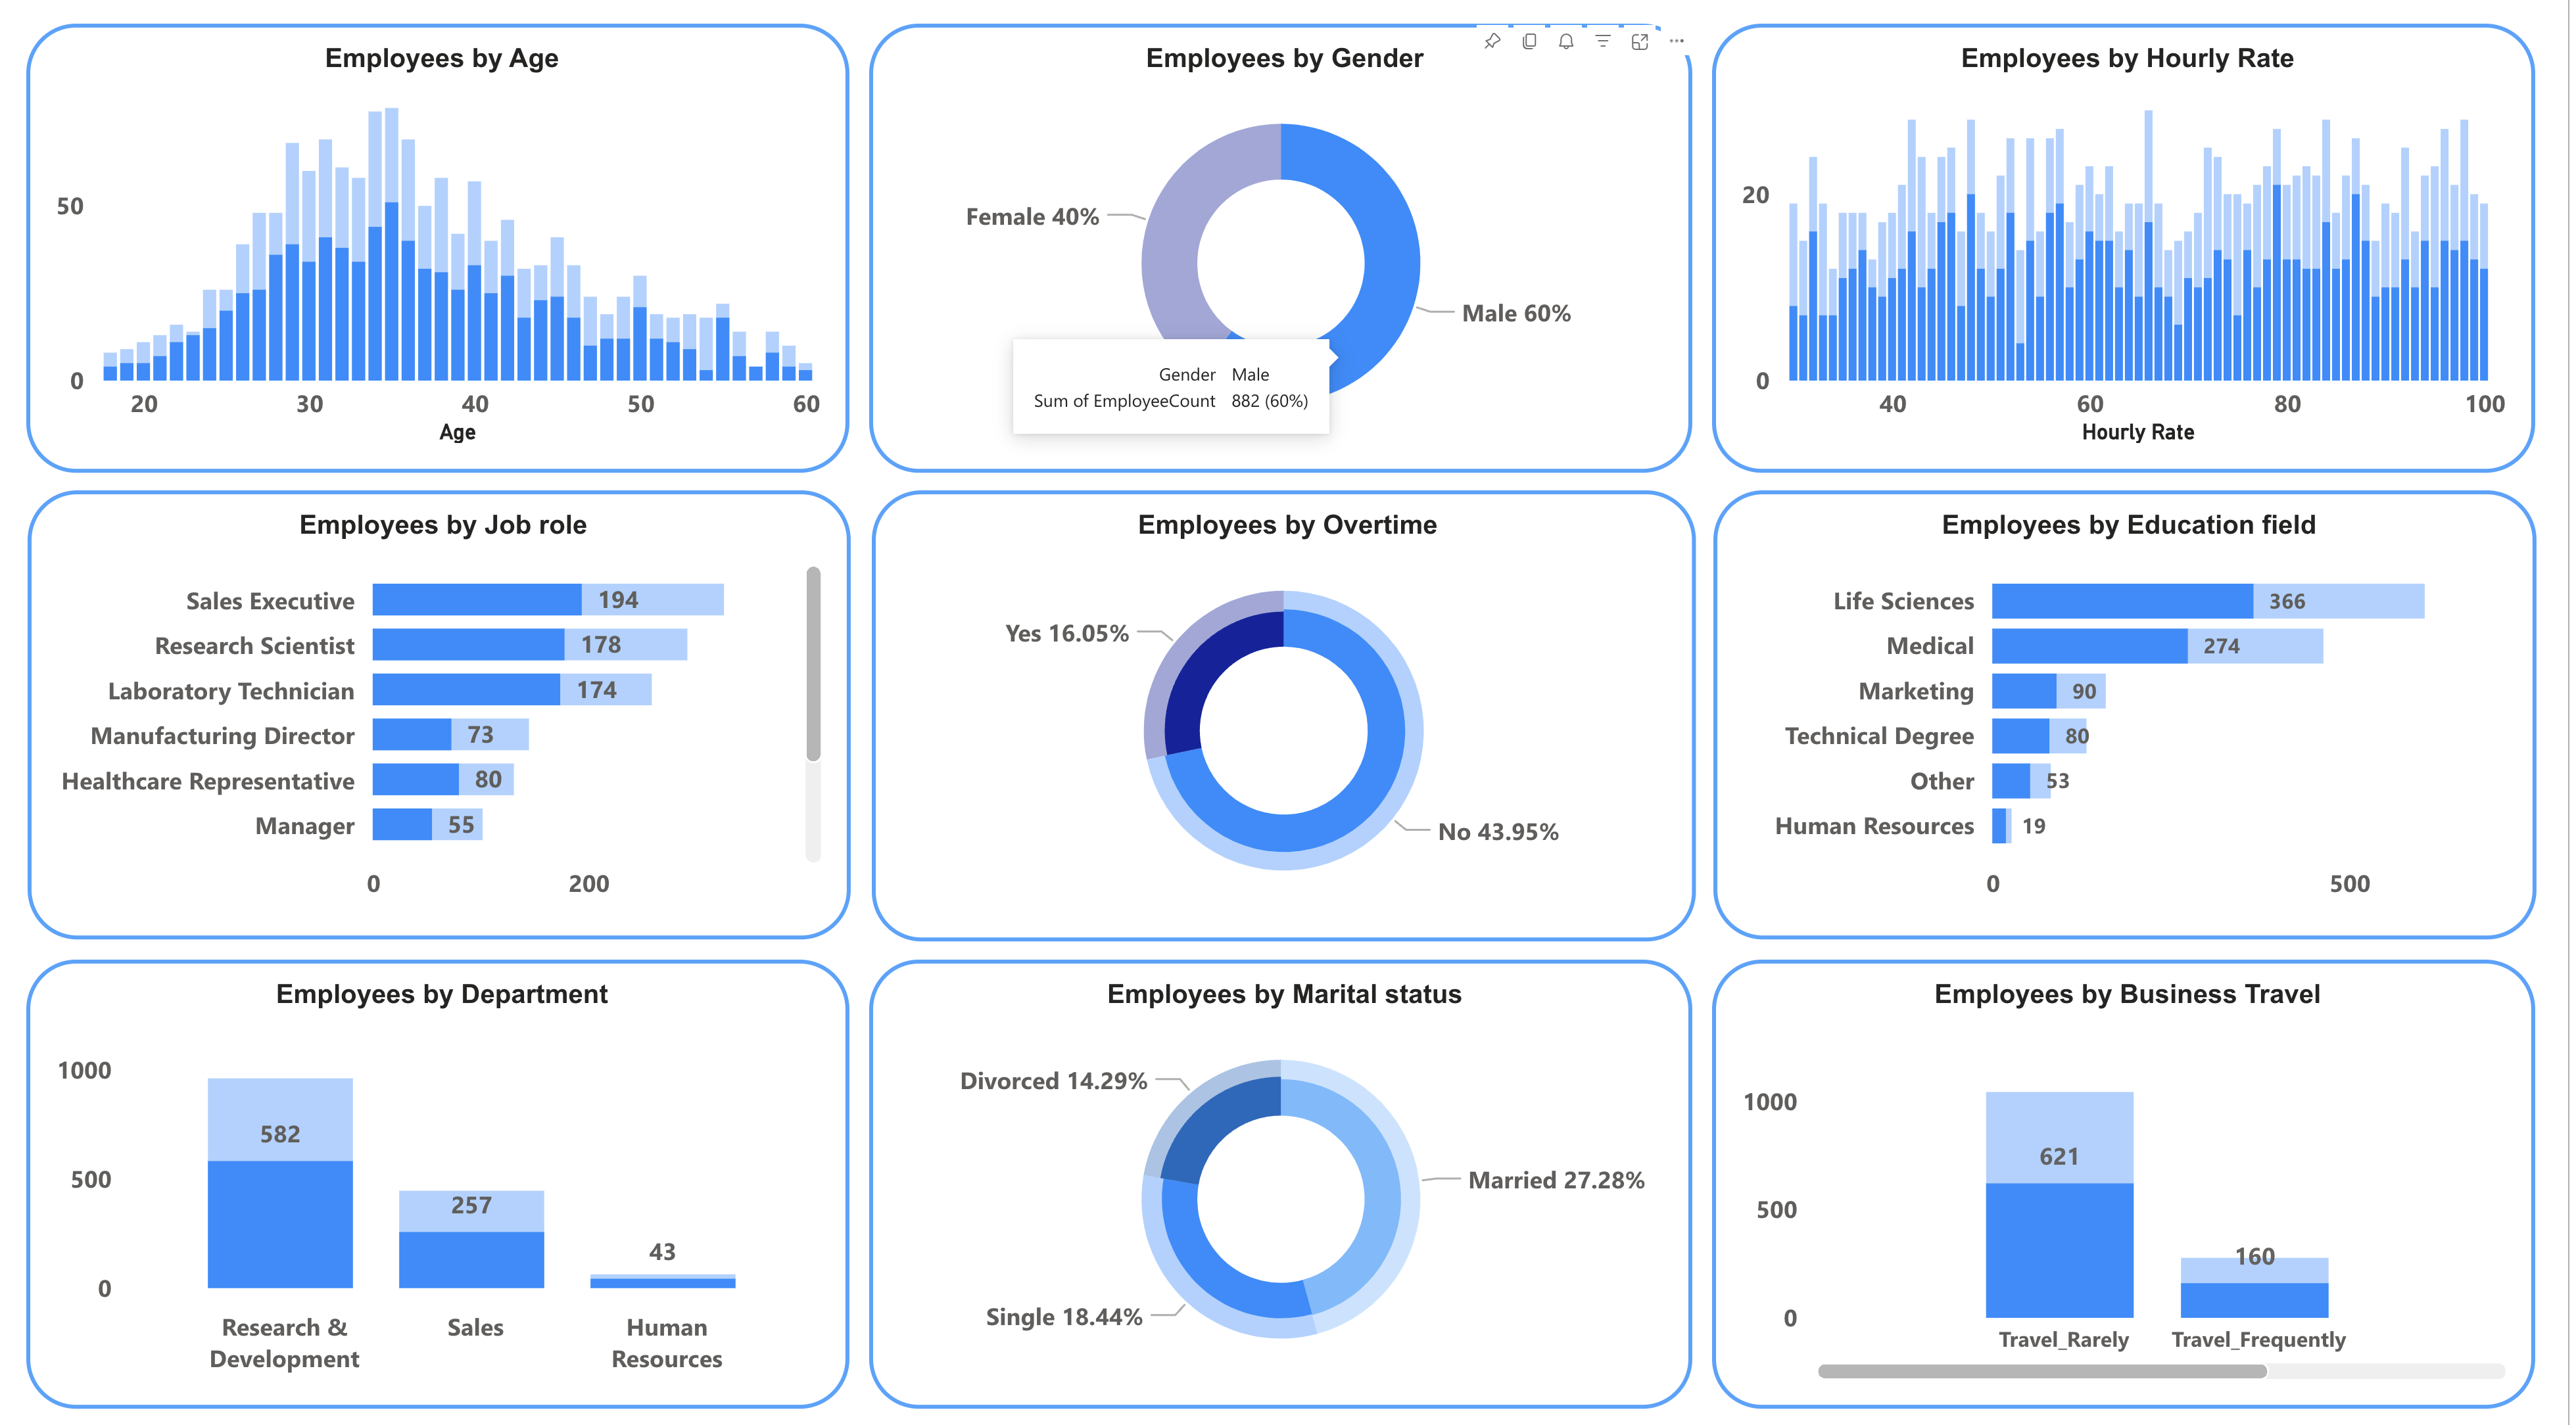

This screenshot's page, from the dashboard's own definition file:
{"tool":"powerbi","page":{"name":"Page 1","canvas":[1280,720],"ordinal":0},"visuals":[{"type":"columnChart","title":"Employees by Age","fields":{"Category":["IBM data.Age"],"Y":["Sum(IBM data.EmployeeCount)"]},"box":[6.5,12.1,415.2,226.6],"z":0},{"type":"donutChart","title":"Employees by Gender","fields":{"Y":["Sum(IBM data.EmployeeCount)"],"Category":["IBM data.Gender"]},"box":[431.9,12.1,415.2,226.6],"z":1000},{"type":"columnChart","title":"Employees by Hourly Rate","fields":{"Y":["Sum(IBM data.EmployeeCount)"],"Category":["IBM data.HourlyRate"]},"box":[856.4,12.1,415.2,226.6],"z":2000},{"type":"barChart","title":"Employees by Education field","fields":{"Y":["Sum(IBM data.EmployeeCount)"],"Category":["IBM data.EducationField"]},"box":[857.4,247.1,415.2,226.6],"z":3000},{"type":"donutChart","title":"Employees by Marital status","fields":{"Y":["Sum(IBM data.EmployeeCount)"],"Category":["IBM data.MaritalStatus"]},"box":[431.9,483.9,415.2,226.6],"z":4000},{"type":"columnChart","title":"Employees by Department","fields":{"Y":["Sum(IBM data.EmployeeCount)"],"Category":["IBM data.Department"]},"box":[6.5,483.9,415.2,226.6],"z":5000},{"type":"barChart","title":"Employees by Job role","fields":{"Y":["Sum(IBM data.EmployeeCount)"],"Category":["IBM data.JobRole"]},"box":[7.4,247.1,415.2,226.6],"z":6000},{"type":"columnChart","title":"Employees by Business Travel","fields":{"Y":["Sum(IBM data.EmployeeCount)"],"Category":["IBM data.BusinessTravel"]},"box":[856.4,483.9,415.2,226.6],"z":7000},{"type":"donutChart","title":"Employees by Overtime","fields":{"Y":["Sum(IBM data.EmployeeCount)"],"Category":["IBM data.OverTime"]},"box":[433.1,247.5,415.4,227.4],"z":7001}]}

Visuals, with their boxes in screenshot pixels (x1, y1, x2, y2):
"Employees by Age" columnChart: 53 30 862 471
"Employees by Gender" donutChart: 882 30 1690 471
"Employees by Hourly Rate" columnChart: 1708 30 2517 471
"Employees by Education field" barChart: 1710 488 2519 929
"Employees by Marital status" donutChart: 882 949 1690 1390
"Employees by Department" columnChart: 53 949 862 1390
"Employees by Job role" barChart: 55 488 863 929
"Employees by Business Travel" columnChart: 1708 949 2517 1390
"Employees by Overtime" donutChart: 884 488 1693 931
